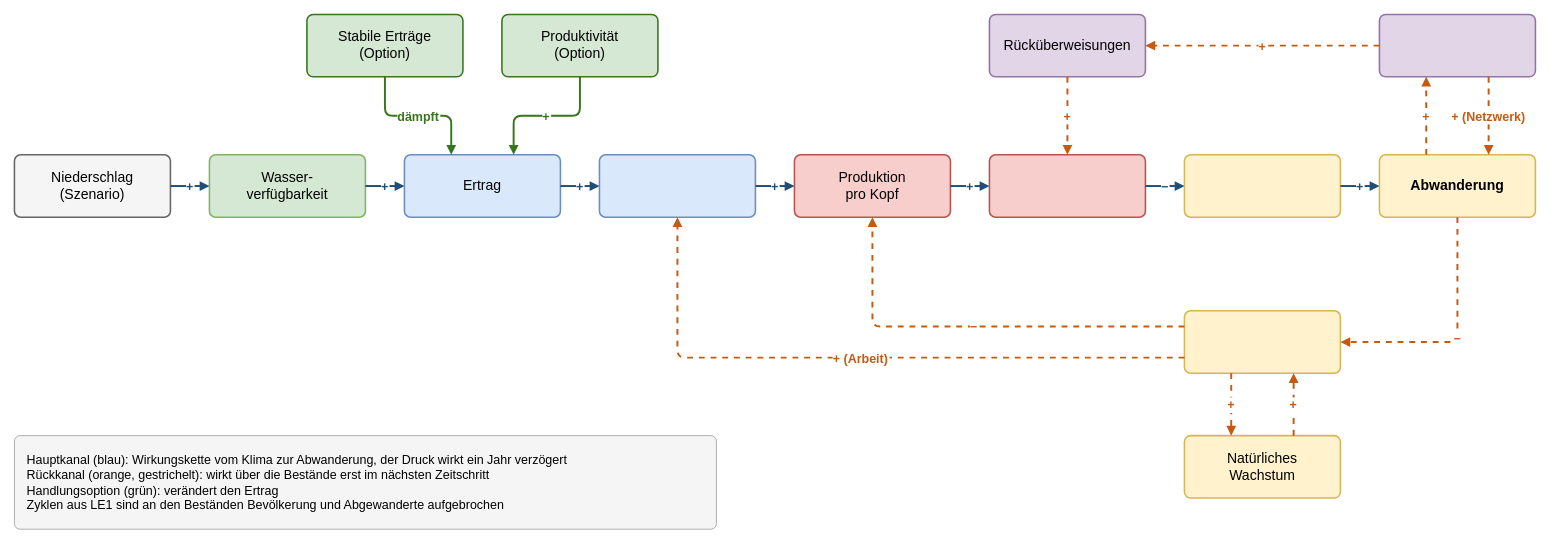
This 1549x543 diagram has some shape labels left out. Here are the shapes that lost their labels. From the top down, the centre of each, then its label:
the point at 1457,45: Abgewanderte (Bestand)
the point at 677,186: Produktion
the point at 1067,186: Haushaltseinkommen pro Kopf
the point at 1262,186: Abwanderungsdruck (1 Jahr verzögert)
the point at 1262,342: Bevölkerung (Bestand)
